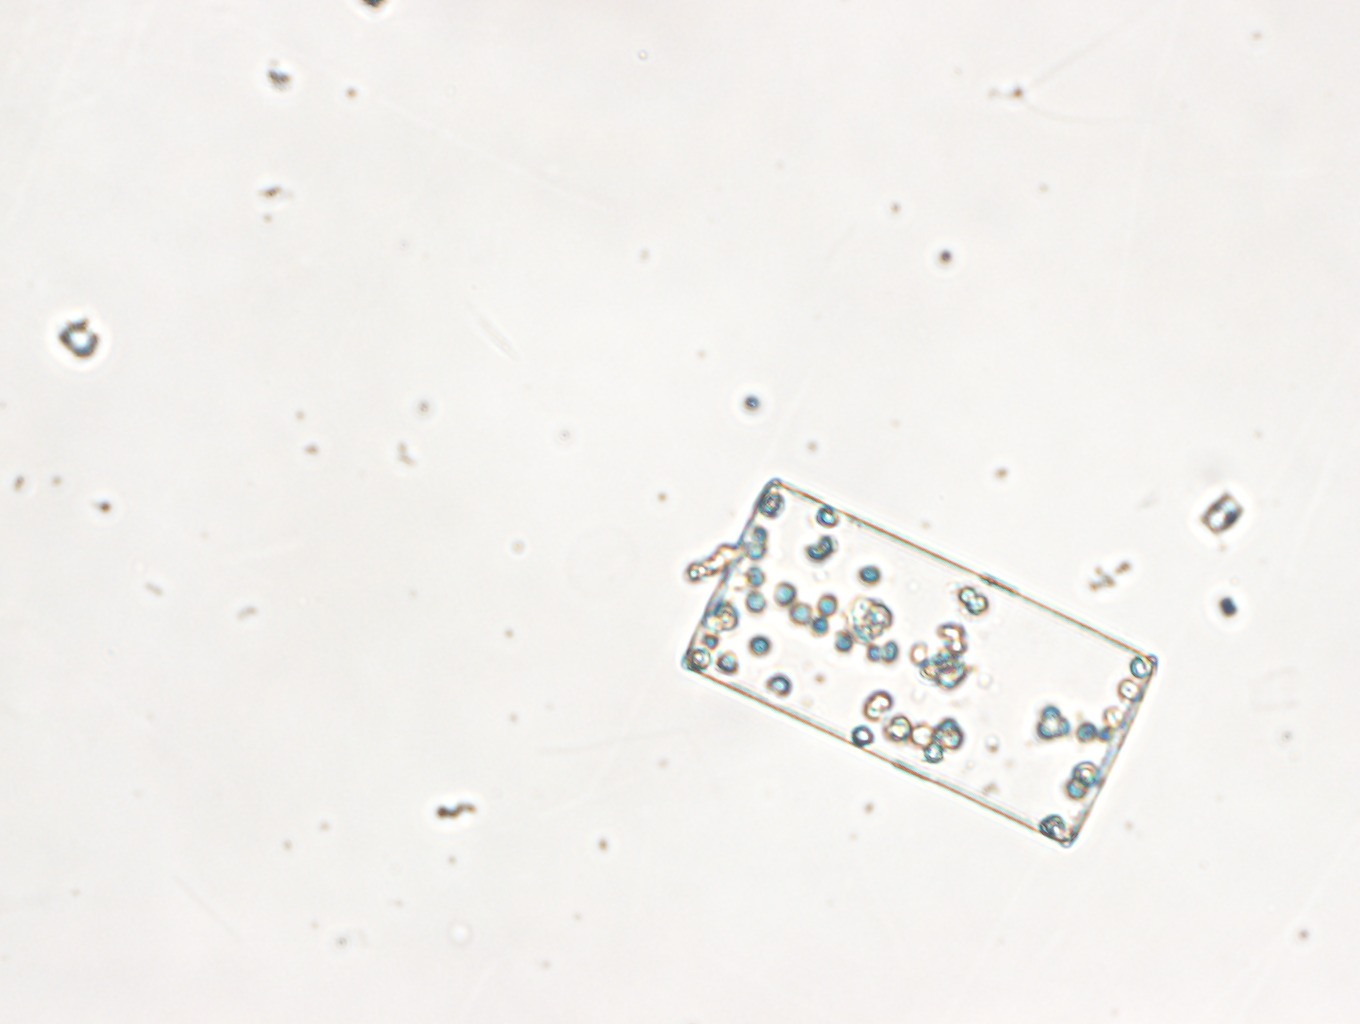guinardia flaccida: (679, 478, 1157, 849)
